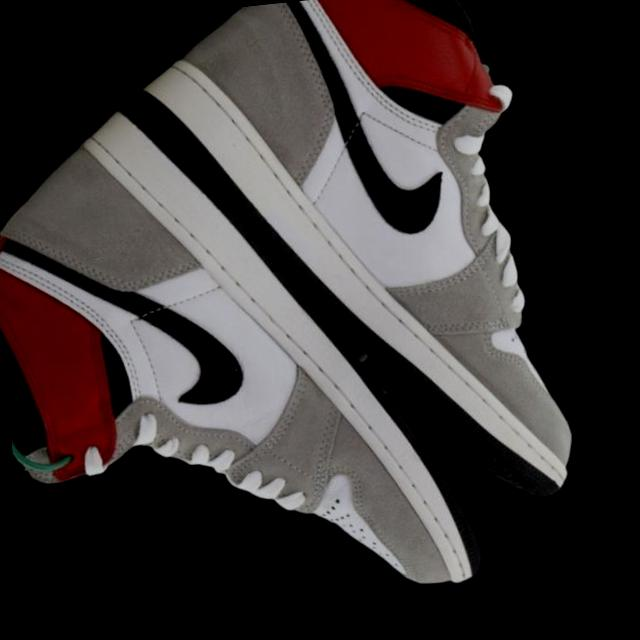nike_original_jordan: (0, 59, 547, 640), (118, 0, 640, 567)
